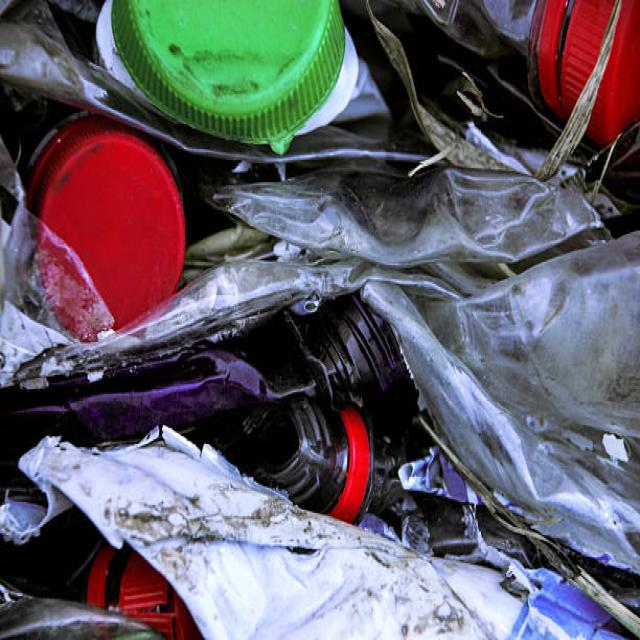plastic: (23, 31, 608, 614)
